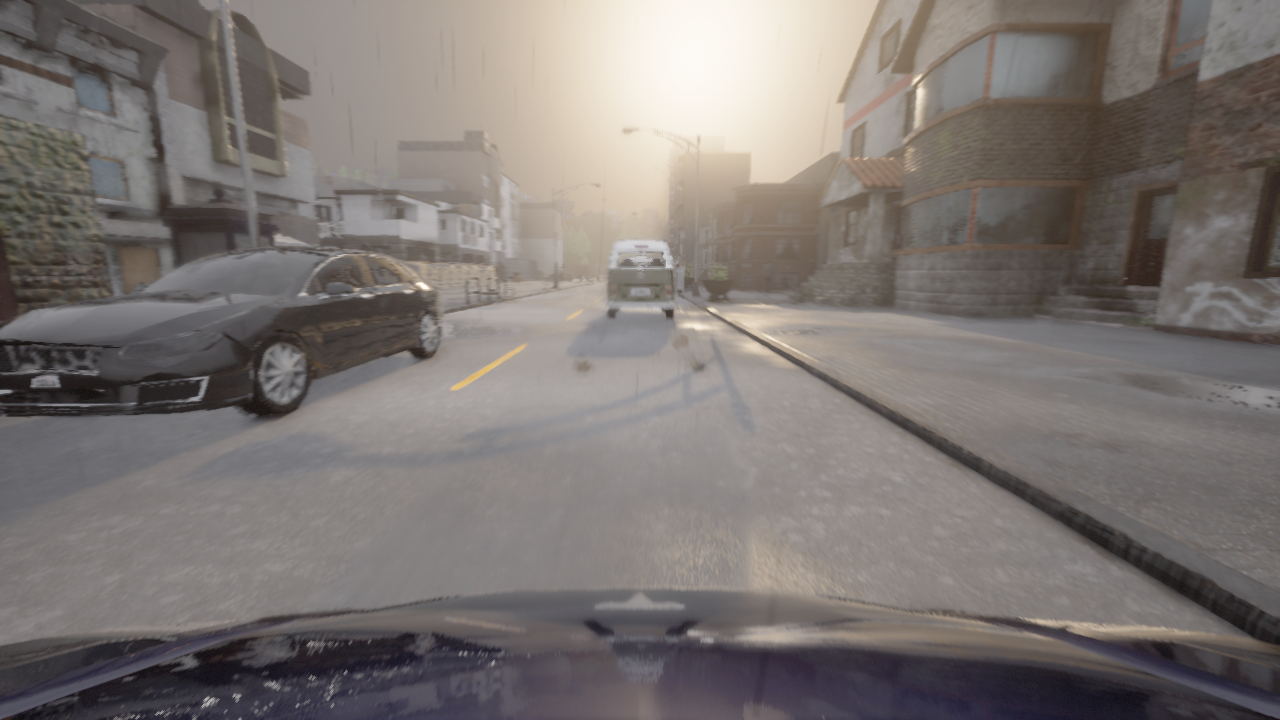cyclist: (0, 588, 1279, 719), (0, 246, 443, 416), (607, 240, 675, 319)
pedestrian: (762, 259, 775, 295)
